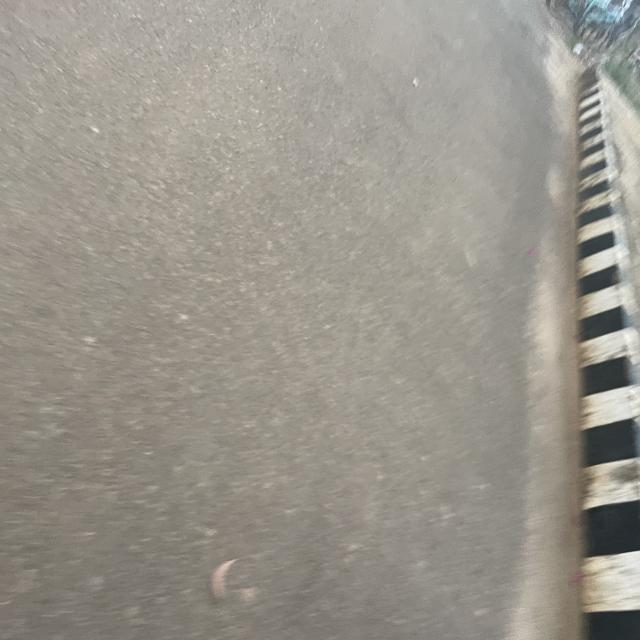D43: (142, 504, 333, 640)
